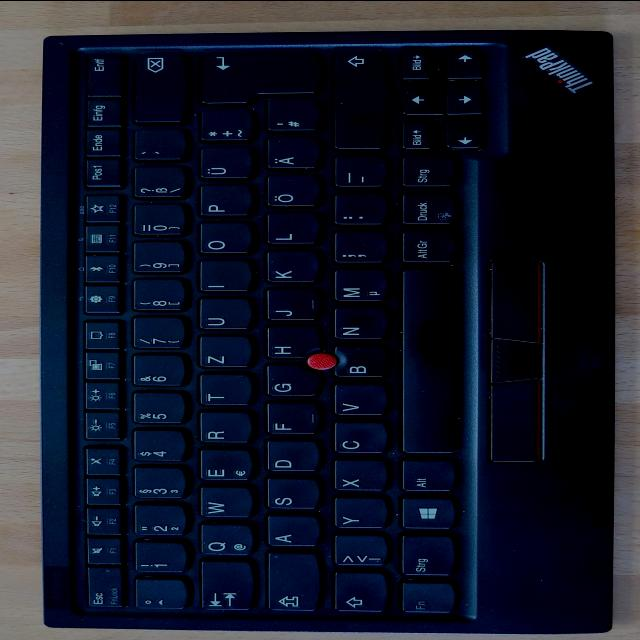0: (128, 204, 186, 238)
1: (131, 541, 187, 573)
2: (130, 504, 186, 537)
3: (130, 466, 186, 500)
4: (129, 430, 186, 462)
5: (129, 392, 185, 426)
6: (128, 354, 186, 388)
7: (129, 317, 185, 350)
8: (129, 279, 186, 313)
9: (128, 241, 186, 275)
a: (263, 515, 320, 547)
accent: (129, 129, 185, 162)
ae: (263, 137, 321, 171)
alt-left: (397, 460, 456, 494)
altgr-right: (397, 231, 456, 265)
b: (329, 345, 388, 379)
c: (330, 421, 388, 455)
caret: (130, 579, 186, 610)
comma: (329, 231, 387, 265)
d: (262, 440, 321, 473)
del: (130, 53, 188, 125)
e: (196, 449, 254, 482)
enter: (195, 50, 323, 105)
f: (262, 403, 319, 436)
g: (261, 365, 320, 397)
h: (262, 326, 319, 360)
hash: (262, 100, 320, 133)
i: (196, 260, 252, 294)
j: (261, 289, 319, 322)
k: (262, 250, 320, 283)
keyboard: (38, 38, 503, 626)
l: (262, 212, 320, 246)
less: (330, 534, 387, 566)
m: (330, 269, 388, 303)
minus: (330, 156, 388, 190)
n: (330, 307, 387, 341)
o: (195, 222, 253, 256)
oe: (262, 175, 321, 209)
p: (196, 184, 253, 218)
plus: (196, 109, 254, 143)
point: (329, 193, 387, 227)
q: (197, 523, 255, 556)
r: (197, 411, 253, 445)
s: (263, 477, 321, 511)
shift-left: (330, 572, 387, 614)
shift-lock: (262, 552, 320, 613)
shift-right: (328, 50, 388, 152)
space: (397, 268, 457, 455)
ss: (130, 166, 186, 200)
strg-left: (397, 533, 456, 578)
strg-right: (397, 155, 457, 189)
t: (195, 373, 252, 406)
tab: (196, 561, 254, 612)
u: (195, 297, 253, 331)
ue: (196, 147, 255, 181)
v: (330, 383, 388, 417)
w: (196, 486, 253, 519)
x: (330, 459, 388, 492)
y: (331, 497, 388, 529)
z: (195, 336, 253, 369)
